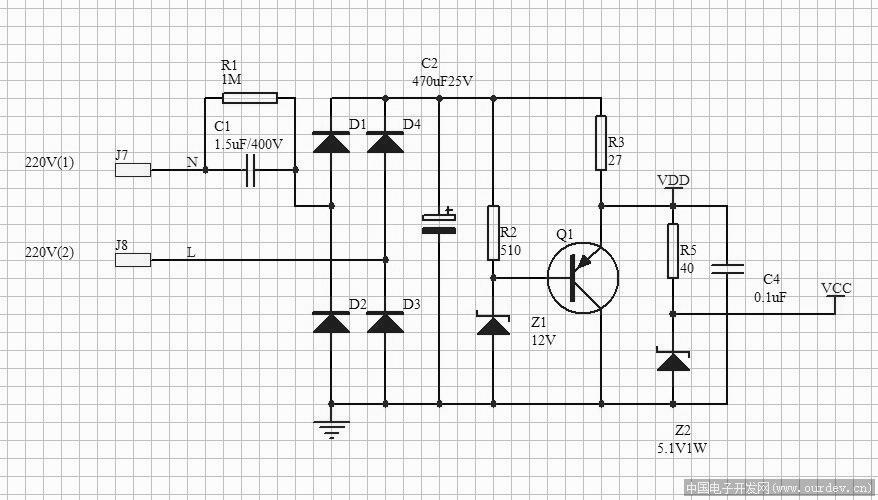cap1: (421, 206, 459, 240), (707, 255, 748, 282), (238, 152, 261, 191)
diode: (653, 341, 694, 376), (471, 307, 513, 339), (310, 308, 353, 339), (309, 128, 352, 158), (364, 308, 407, 338), (366, 128, 406, 157)
gnd: (312, 417, 352, 441)
res1: (219, 88, 282, 108), (485, 198, 503, 264), (664, 218, 681, 285), (594, 110, 610, 176)
triode: (549, 242, 619, 316)
